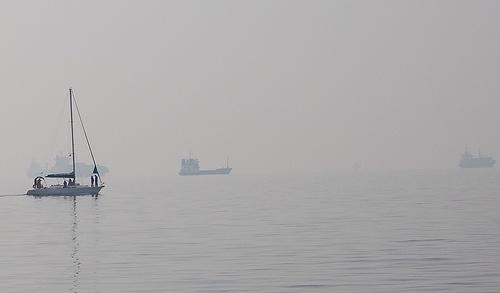boat: (20, 79, 109, 202), (26, 153, 109, 179), (176, 151, 233, 175), (461, 151, 498, 172)
